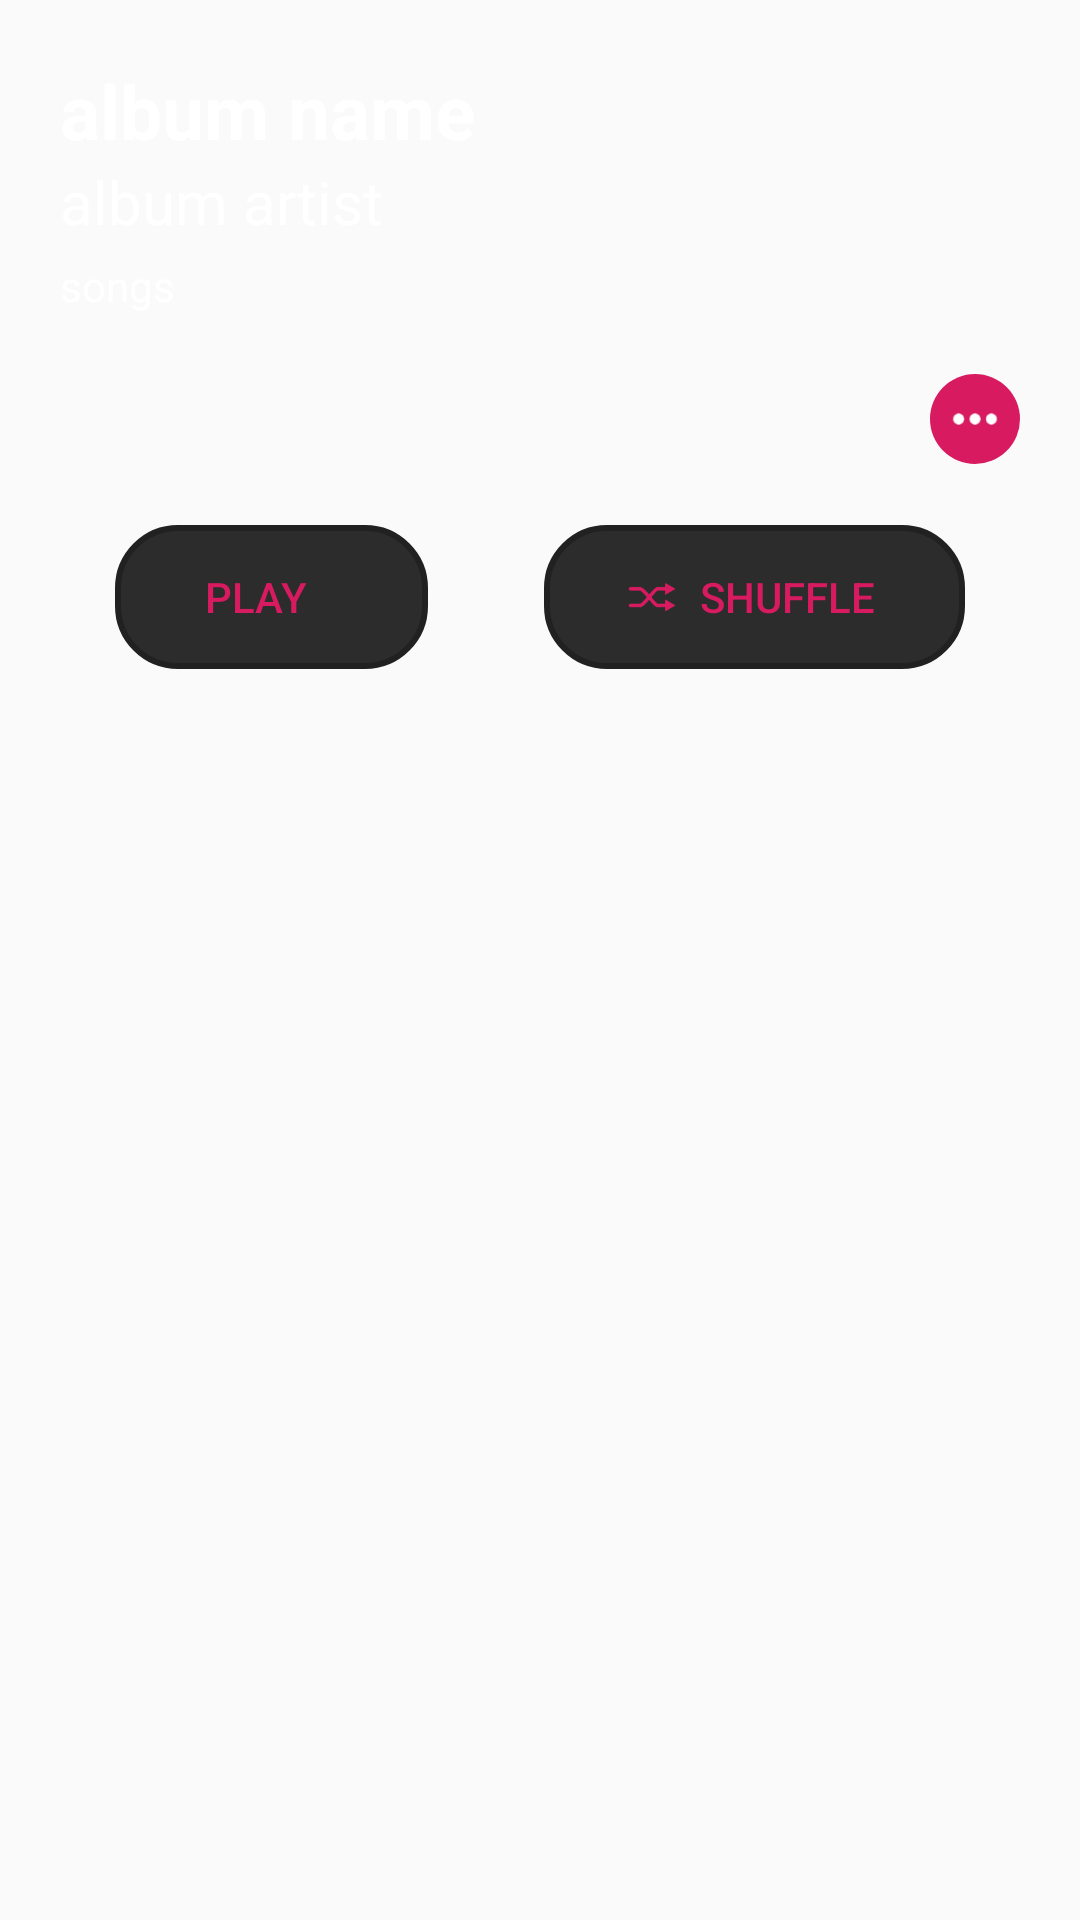

Screen size 1080 x 1920. Icon name, then its box in pixels as (x1, y1, x2, y2):
more horiz: (930, 374, 1020, 464)
